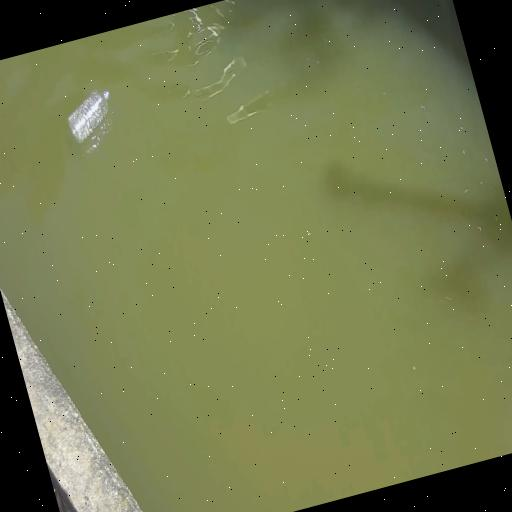plastic: (60, 84, 120, 148)
